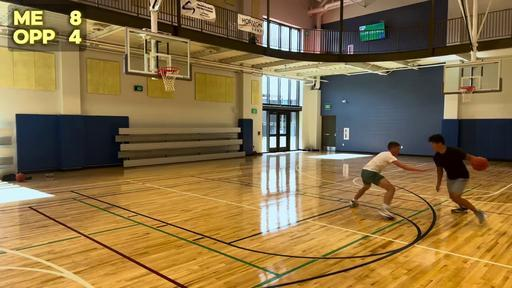ball: (470, 156, 488, 171)
human: (349, 142, 431, 220), (428, 134, 486, 225)
rim: (160, 67, 180, 91), (460, 86, 474, 102)
